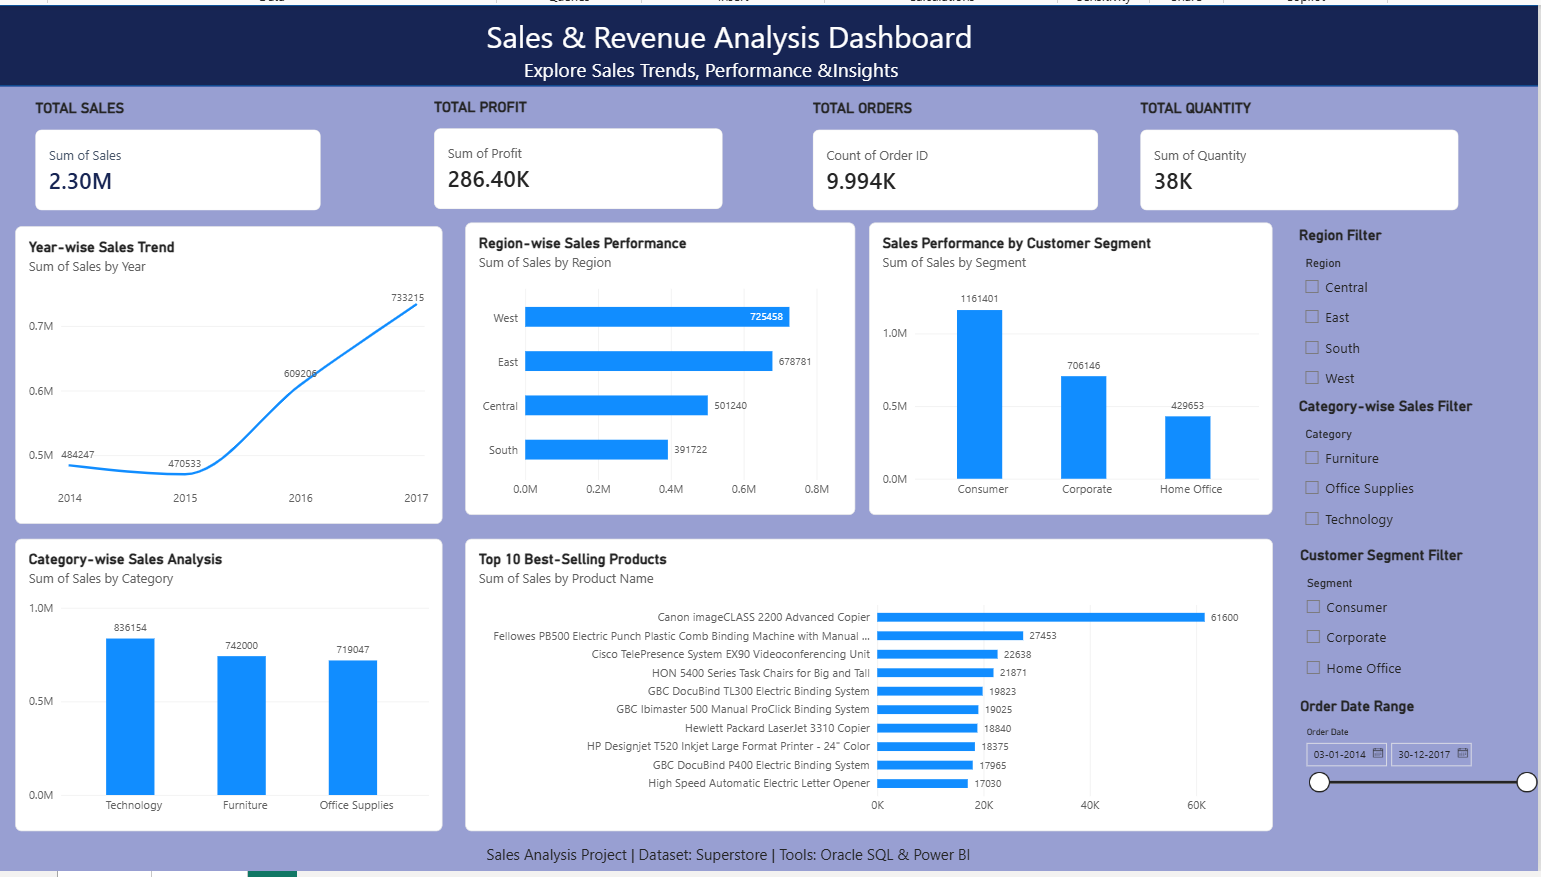

The page's visual inventory and layout, read from the dashboard file:
{"tool":"powerbi","page":{"name":"Page 1","canvas":[1920,1080],"ordinal":0},"visuals":[{"type":"shape","box":[0,0,1920.6,101.3],"z":0},{"type":"cardVisual","title":"TOTAL SALES","fields":{"Data":["Sum(Sales_Analysis_Working xlsx.Sales)"]},"box":[45.2,118.5,356.1,137.9],"z":1000},{"type":"cardVisual","title":"TOTAL PROFIT","fields":{"Data":["Sum(Sales_Analysis_Working xlsx.Profit)"]},"box":[542.5,116.9,360.2,137.9],"z":2000},{"type":"cardVisual","title":"TOTAL ORDERS","fields":{"Data":["CountNonNull(Sales_Analysis_Working xlsx.Order ID)"]},"box":[1014.8,118.5,356.1,137.9],"z":3000},{"type":"cardVisual","title":"TOTAL QUANTITY","fields":{"Data":["Sum(Sales_Analysis_Working xlsx.Quantity)"]},"box":[1423.3,118.5,397.3,137.9],"z":4000},{"type":"lineChart","title":"Year-wise Sales Trend","fields":{"Category":["Sales_Analysis_Working xlsx.Order Date.Variation.Date Hierarchy.Year","Sales_Analysis_Working xlsx.Order Date.Variation.Date Hierarchy.Quarter","Sales_Analysis_Working xlsx.Order Date.Variation.Date Hierarchy.Month","Sales_Analysis_Working xlsx.Order Date.Variation.Date Hierarchy.Day"],"Y":["Sum(Sales_Analysis_Working xlsx.Sales)"]},"box":[20.3,275.9,533.1,371],"z":5000},{"type":"clusteredColumnChart","title":"Category-wise Sales Analysis","fields":{"Category":["Sales_Analysis_Working xlsx.Category"],"Y":["Sum(Sales_Analysis_Working xlsx.Sales)"]},"box":[20.3,665.6,533.1,364.8],"z":6000},{"type":"clusteredBarChart","title":"Region-wise Sales Performance","fields":{"Category":["Sales_Analysis_Working xlsx.Region"],"Y":["Sum(Sales_Analysis_Working xlsx.Sales)"]},"box":[581.5,271.2,486.4,364.8],"z":7000},{"type":"clusteredBarChart","title":"Top 10 Best-Selling Products","fields":{"Category":["Sales_Analysis_Working xlsx.Product Name"],"Y":["Sum(Sales_Analysis_Working xlsx.Sales)"]},"box":[581.5,665.6,1007,364.8],"z":8000},{"type":"clusteredColumnChart","title":"Sales Performance by Customer Segment","fields":{"Category":["Sales_Analysis_Working xlsx.Segment"],"Y":["Sum(Sales_Analysis_Working xlsx.Sales)"]},"box":[1085,271.2,503.5,364.8],"z":9000},{"type":"slicer","title":"Region Filter","fields":{"Values":["Sales_Analysis_Working xlsx.Region"]},"box":[1621.3,275.9,298.5,214.1],"z":10000},{"type":"slicer","title":"Category-wise Sales Filter ","fields":{"Values":["Sales_Analysis_Working xlsx.Category"]},"box":[1621.3,489.5,298.5,230.5],"z":11000},{"type":"slicer","title":"Customer Segment Filter ","fields":{"Values":["Sales_Analysis_Working xlsx.Segment"]},"box":[1622.8,675,298.5,189.4],"z":12000},{"type":"slicer","title":"Order Date Range","fields":{"Values":["Sales_Analysis_Working xlsx.Order Date"]},"box":[1622.8,863.6,298.5,150.3],"z":13000},{"type":"textbox","box":[1701,276,150,385],"z":14000},{"type":"textbox","box":[607.2,14.4,922.1,63.8],"z":15000},{"type":"textbox","box":[654.7,63.9,1265.8,82.6],"z":16000},{"type":"textbox","box":[608,1046,1069.4,34.3],"z":16001}]}

Visuals, with their boxes on the page's 1920x1080 design canvas (x1, y1, x2, y2). These are canvas units, not pixel positions in the 1541x877 screenshot, which may show the page scaled, cropped or inside an application window:
shape: bbox(0, 0, 1921, 101)
"TOTAL SALES" cardVisual: bbox(45, 118, 401, 256)
"TOTAL PROFIT" cardVisual: bbox(542, 117, 903, 255)
"TOTAL ORDERS" cardVisual: bbox(1015, 118, 1371, 256)
"TOTAL QUANTITY" cardVisual: bbox(1423, 118, 1821, 256)
"Year-wise Sales Trend" lineChart: bbox(20, 276, 553, 647)
"Category-wise Sales Analysis" clusteredColumnChart: bbox(20, 666, 553, 1030)
"Region-wise Sales Performance" clusteredBarChart: bbox(582, 271, 1068, 636)
"Top 10 Best-Selling Products" clusteredBarChart: bbox(582, 666, 1588, 1030)
"Sales Performance by Customer Segment" clusteredColumnChart: bbox(1085, 271, 1588, 636)
"Region Filter" slicer: bbox(1621, 276, 1920, 490)
"Category-wise Sales Filter " slicer: bbox(1621, 490, 1920, 720)
"Customer Segment Filter " slicer: bbox(1623, 675, 1921, 864)
"Order Date Range" slicer: bbox(1623, 864, 1921, 1014)
textbox: bbox(1701, 276, 1851, 661)
textbox: bbox(607, 14, 1529, 78)
textbox: bbox(655, 64, 1920, 146)
textbox: bbox(608, 1046, 1677, 1080)
